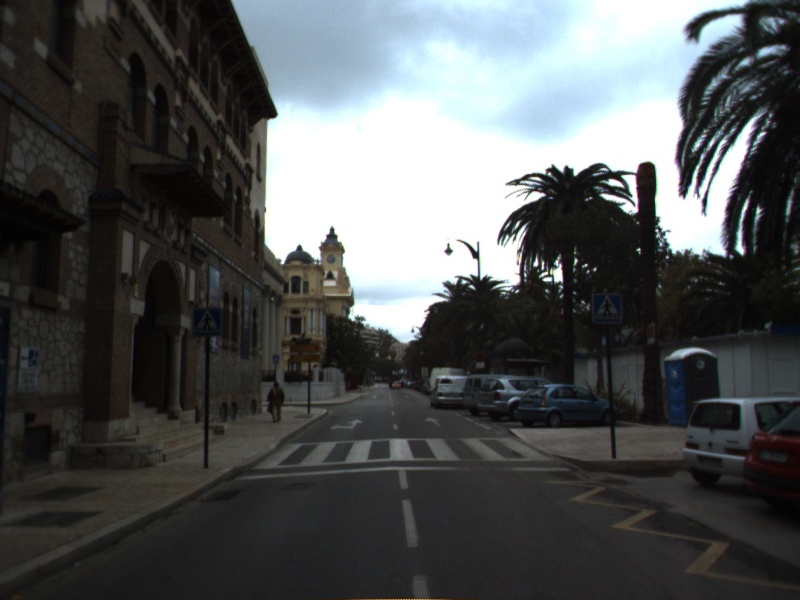STRAIGHT: (422, 415, 444, 428)
STRAIGHT_LEFT: (328, 417, 366, 433)
